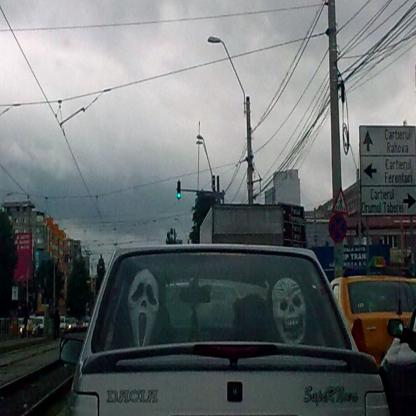Car: (20, 243, 416, 416)
